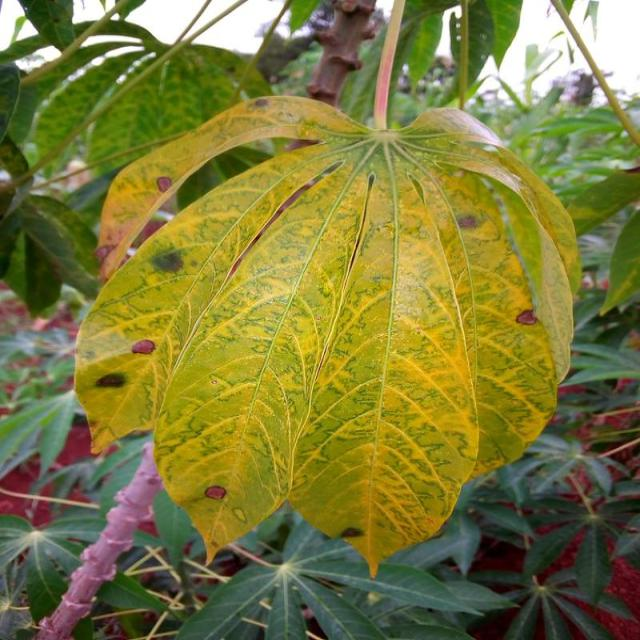cassava leaf: (74, 92, 582, 578)
